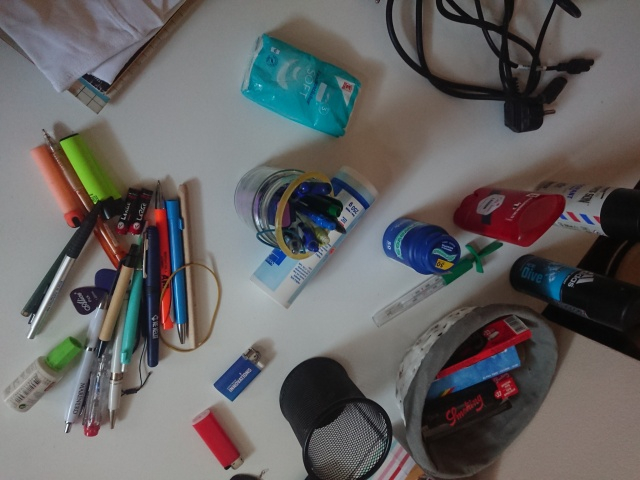Solana Pag Fine Sea Salt 250g: (246, 163, 380, 313)
